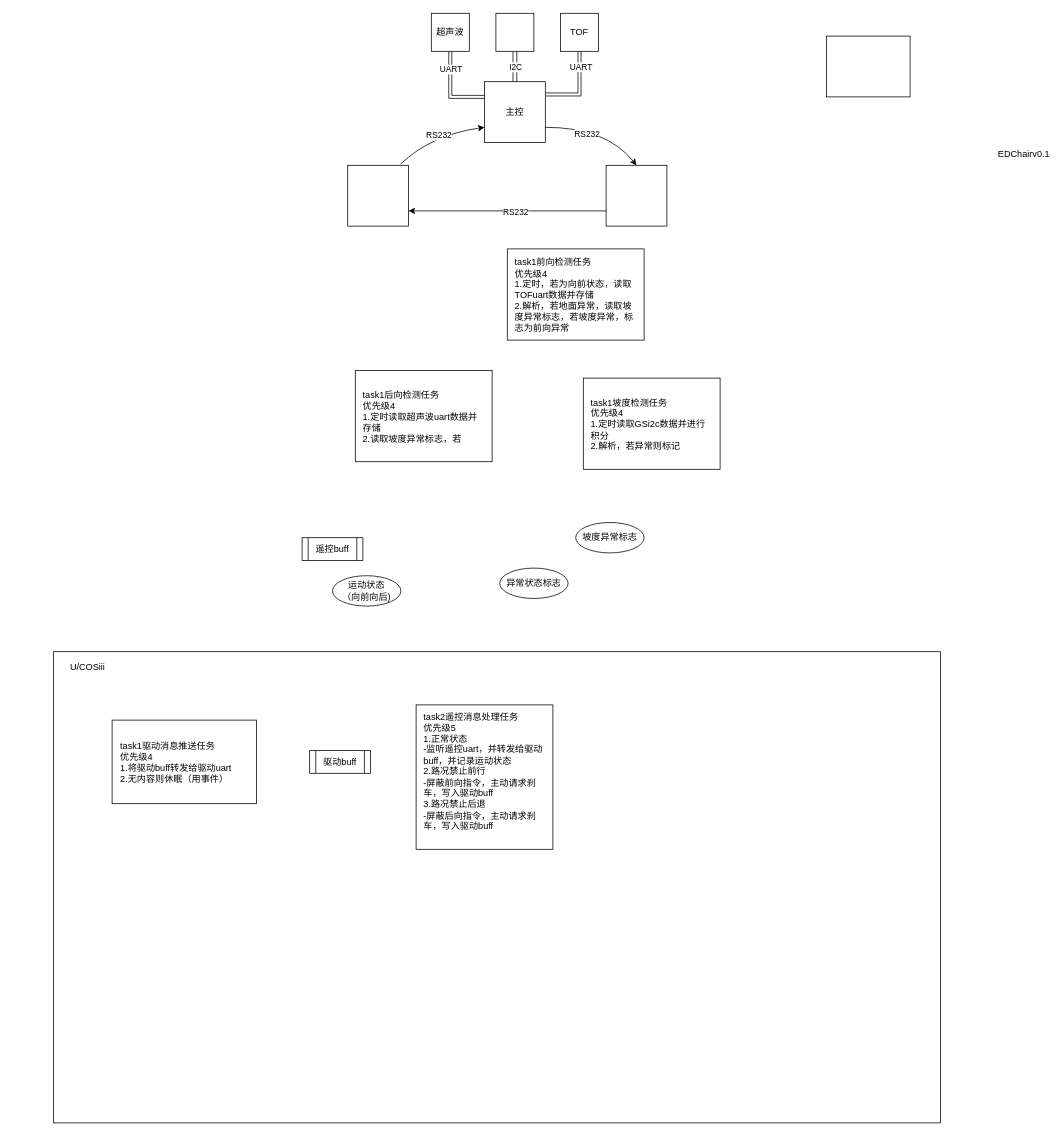
Some shapes in this 1062 by 1136 pixel diagram are drawn without their labels. Here are the shapes that lost their labels. From the top down, the box of each, then its label:
(495, 13, 534, 51): GS
(826, 35, 910, 97): 初始化 1.初始化硬件 2.初始化各变量 3.启动任务
(347, 165, 408, 226): 遥控
(605, 165, 667, 226): 驱动
